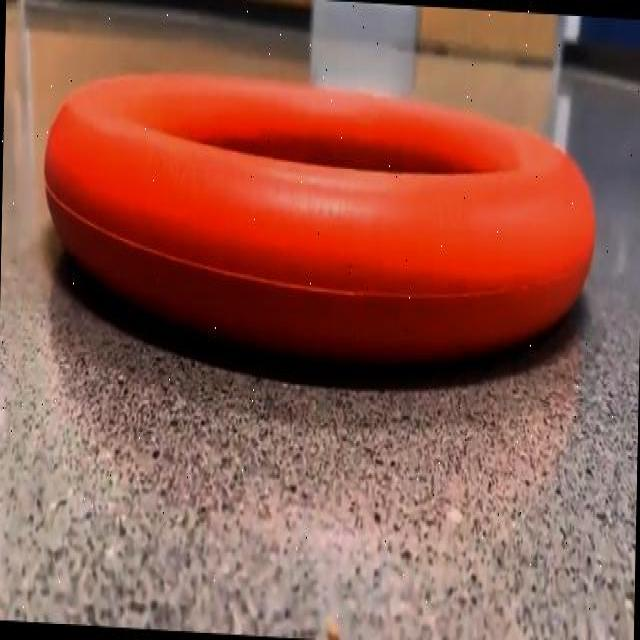note: (45, 74, 595, 364)
